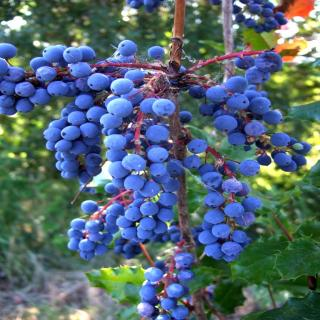Grape: (0, 40, 311, 320), (230, 0, 288, 35), (127, 0, 162, 11), (210, 0, 222, 6)
